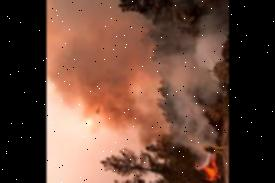fire: (199, 152, 222, 183)
